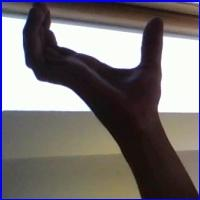space: (20, 2, 174, 121)
